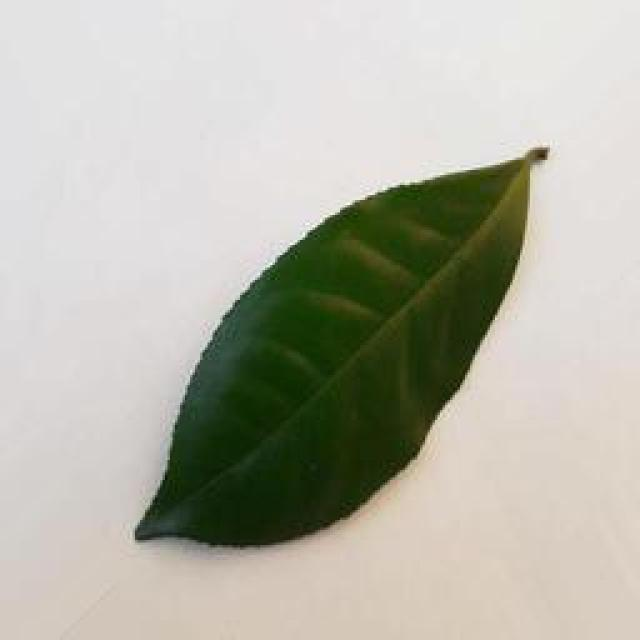Healthy: (137, 139, 557, 558)
